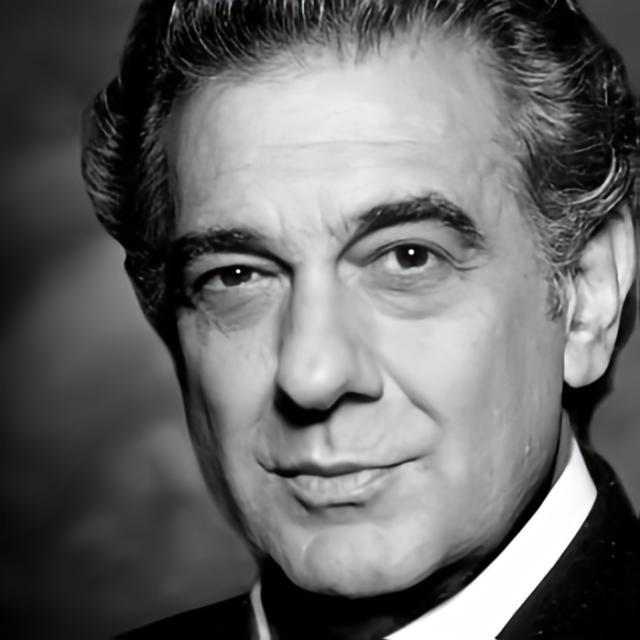content: (172, 22, 566, 600)
